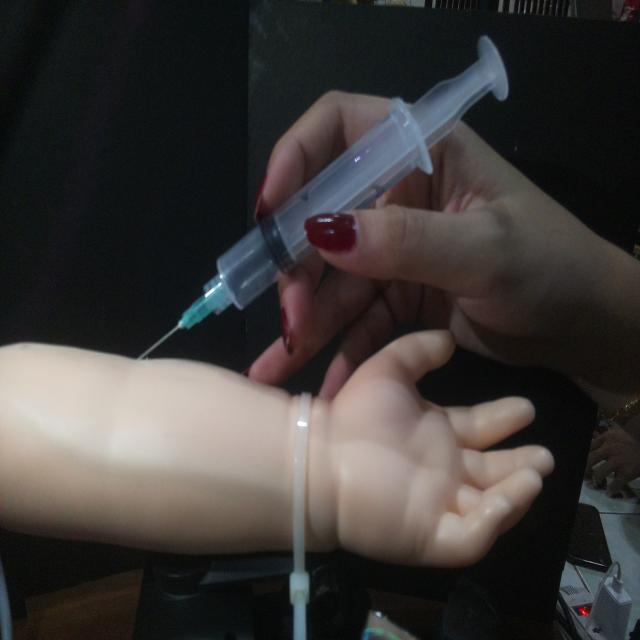29deg: (132, 31, 512, 363)
